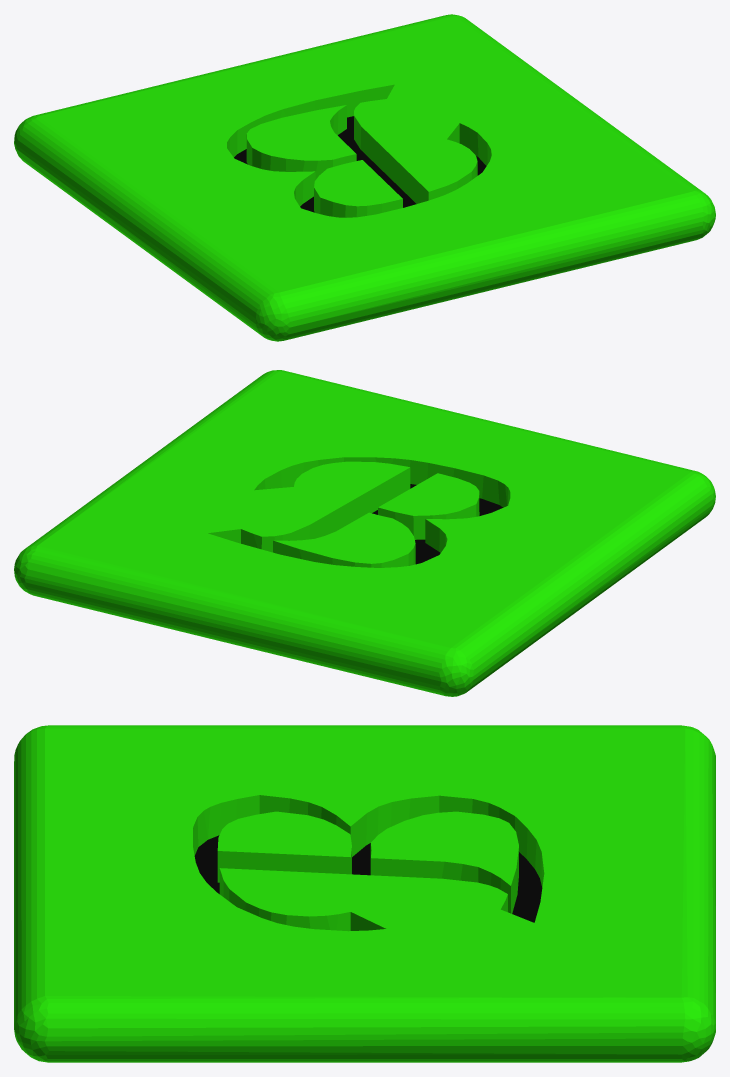
Rendered from tile-B.glb.
3 renders of one model, top to bottom at view 1: azimuth 30°, elevation 25°; view 2: azimuth 150°, elevation 25°; view 3: azimuth 270°, elevation 25°, orthographic. The views are drawn at different scales.
Visible parts, largest first — view 1: tile-puzzle-B v1; view 2: tile-puzzle-B v1; view 3: tile-puzzle-B v1.
Boxes of the visible parts, x1,y1,x2,y2 form: tile-puzzle-B v1: (14, 14, 715, 341); tile-puzzle-B v1: (14, 370, 715, 696); tile-puzzle-B v1: (14, 725, 715, 1062).
Size of the model in its own units: 39.99 by 3.98 by 39.99.
